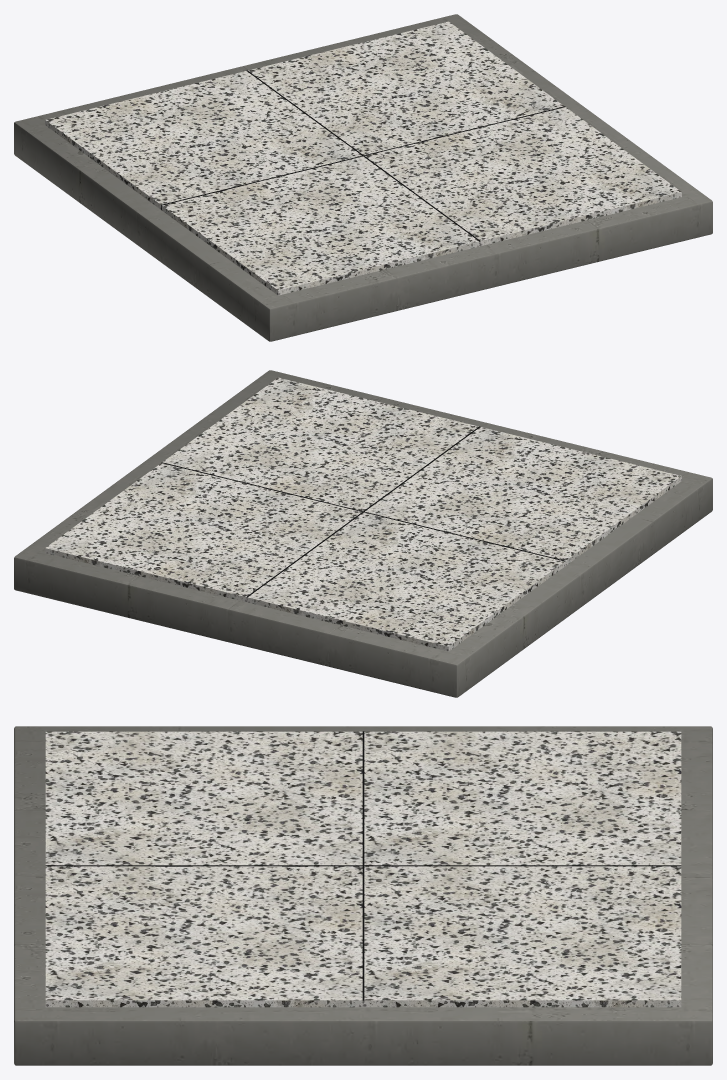
The model's file is PIS-OUT-001.glb.
3 views of the same model, one above another, from view 1: azimuth 30°, elevation 25°; view 2: azimuth 150°, elevation 25°; view 3: azimuth 270°, elevation 25° (orthographic). The views are drawn at different scales.
Parts seen in each view (by area): view 1: PIS-OUT-001_granilite, PIS-OUT-001_laje, PIS-OUT-001_juntaX; view 2: PIS-OUT-001_granilite, PIS-OUT-001_laje, PIS-OUT-001_juntaX; view 3: PIS-OUT-001_granilite, PIS-OUT-001_laje, PIS-OUT-001_juntaY, PIS-OUT-001_juntaX.
Part boxes in pixels (<box>): PIS-OUT-001_granilite: <box>45,21,681,295</box>; PIS-OUT-001_laje: <box>14,14,712,341</box>; PIS-OUT-001_juntaX: <box>161,106,565,210</box>; PIS-OUT-001_granilite: <box>45,377,681,651</box>; PIS-OUT-001_laje: <box>14,370,712,697</box>; PIS-OUT-001_juntaX: <box>161,462,565,561</box>; PIS-OUT-001_granilite: <box>45,731,681,1007</box>; PIS-OUT-001_laje: <box>14,726,712,1065</box>; PIS-OUT-001_juntaY: <box>45,865,681,866</box>; PIS-OUT-001_juntaX: <box>362,731,364,1006</box>.
Bounding box in the file's own units: 1.1 × 0.0925 × 1.1.
3 materials, 3 textured.
